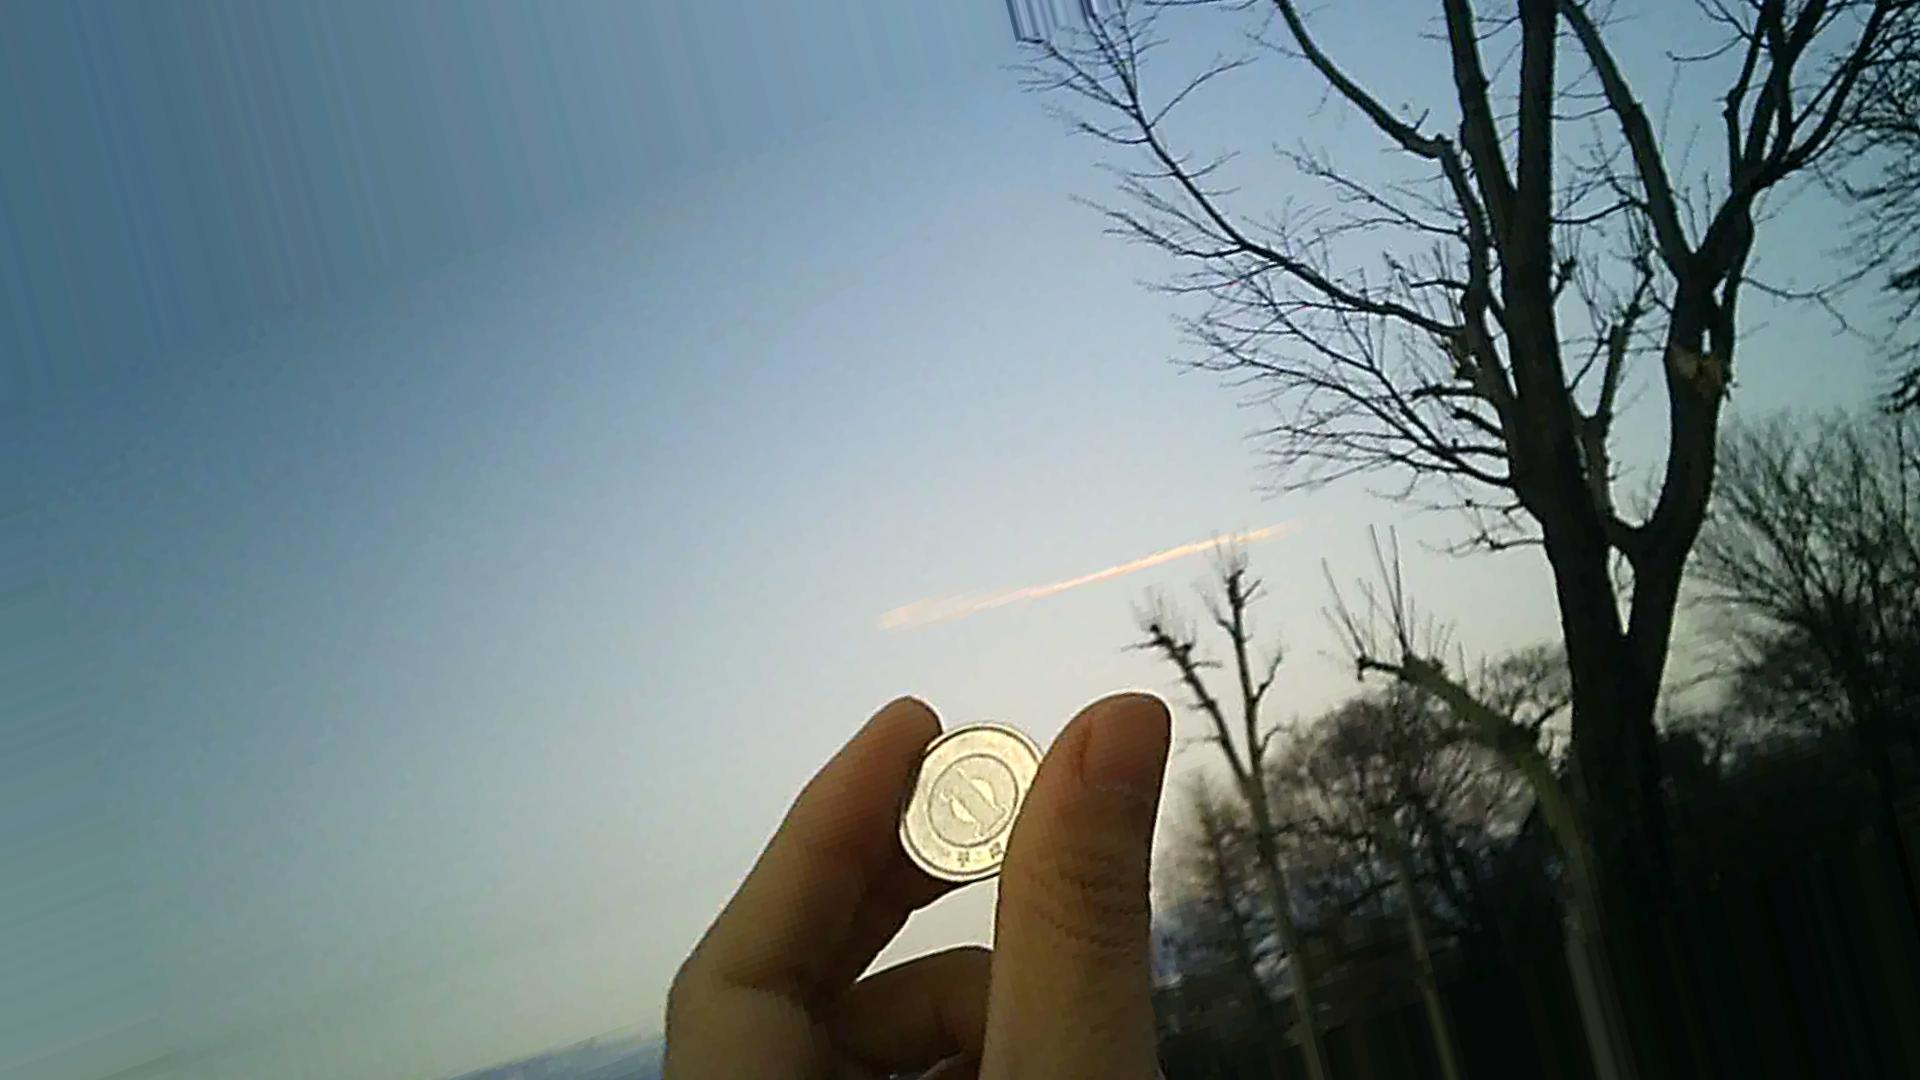1 Yen: (891, 717, 1059, 889)
